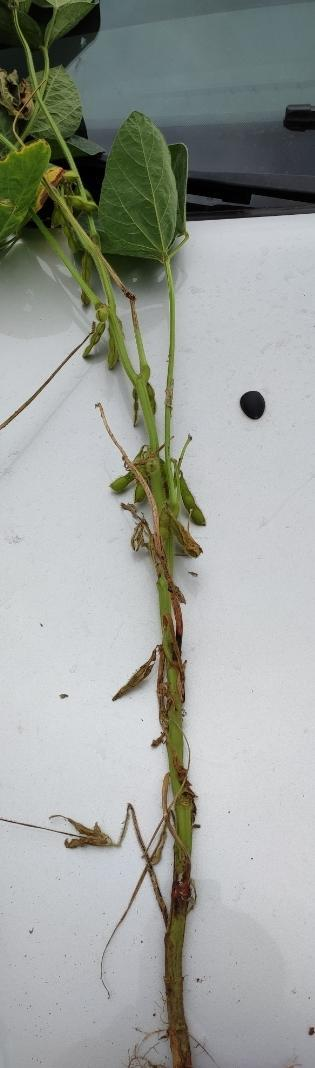soja: (177, 466, 207, 527), (107, 317, 128, 374), (140, 377, 168, 417), (81, 318, 105, 362), (159, 494, 181, 539), (124, 384, 144, 431), (79, 255, 96, 307), (58, 224, 83, 259), (106, 471, 138, 497), (130, 476, 151, 509), (62, 196, 101, 213)
